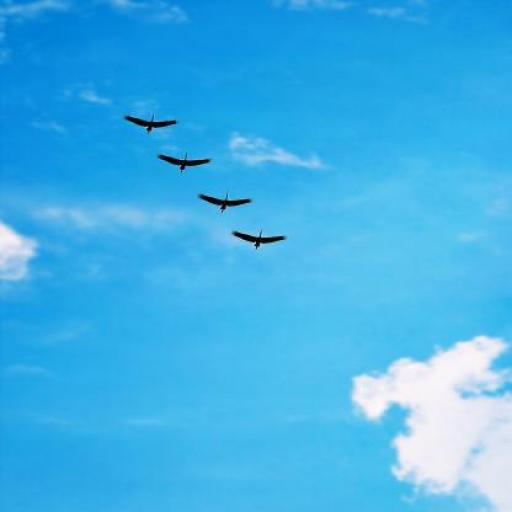bird: (197, 193, 252, 214), (125, 114, 177, 135), (233, 230, 286, 250), (157, 153, 210, 173)
